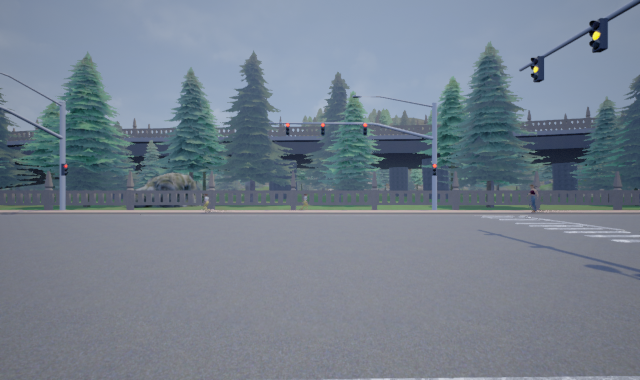pedestrian: (525, 183, 542, 212), (199, 191, 213, 212), (299, 191, 310, 210)
